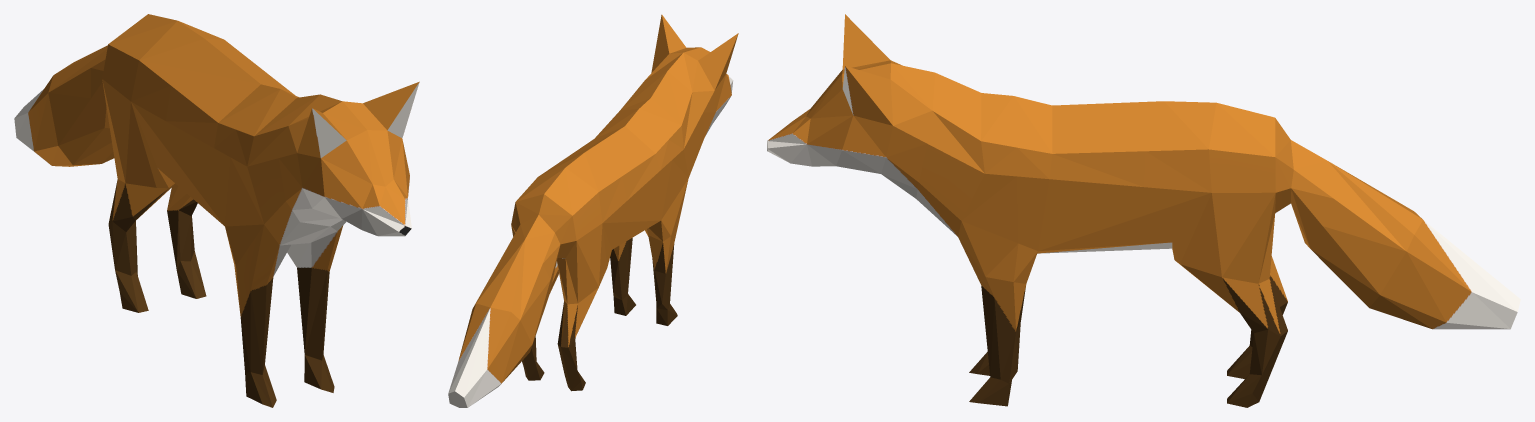
The model's file is fox.glb.
3 renders of one model, left to right at view 1: azimuth 30°, elevation 25°; view 2: azimuth 150°, elevation 25°; view 3: azimuth 270°, elevation 25°, orthographic. The views are drawn at different scales.
Parts seen in each view (by area): view 1: fox1; view 2: fox1; view 3: fox1.
Boxes of the visible parts, x1,y1,x2,y2 form: fox1: (14,14,419,407); fox1: (448,14,738,407); fox1: (767,14,1520,407).
Size of the model in its own units: 1.26 by 3.95 by 7.74.
Materials: 1 (1 with a texture image).
